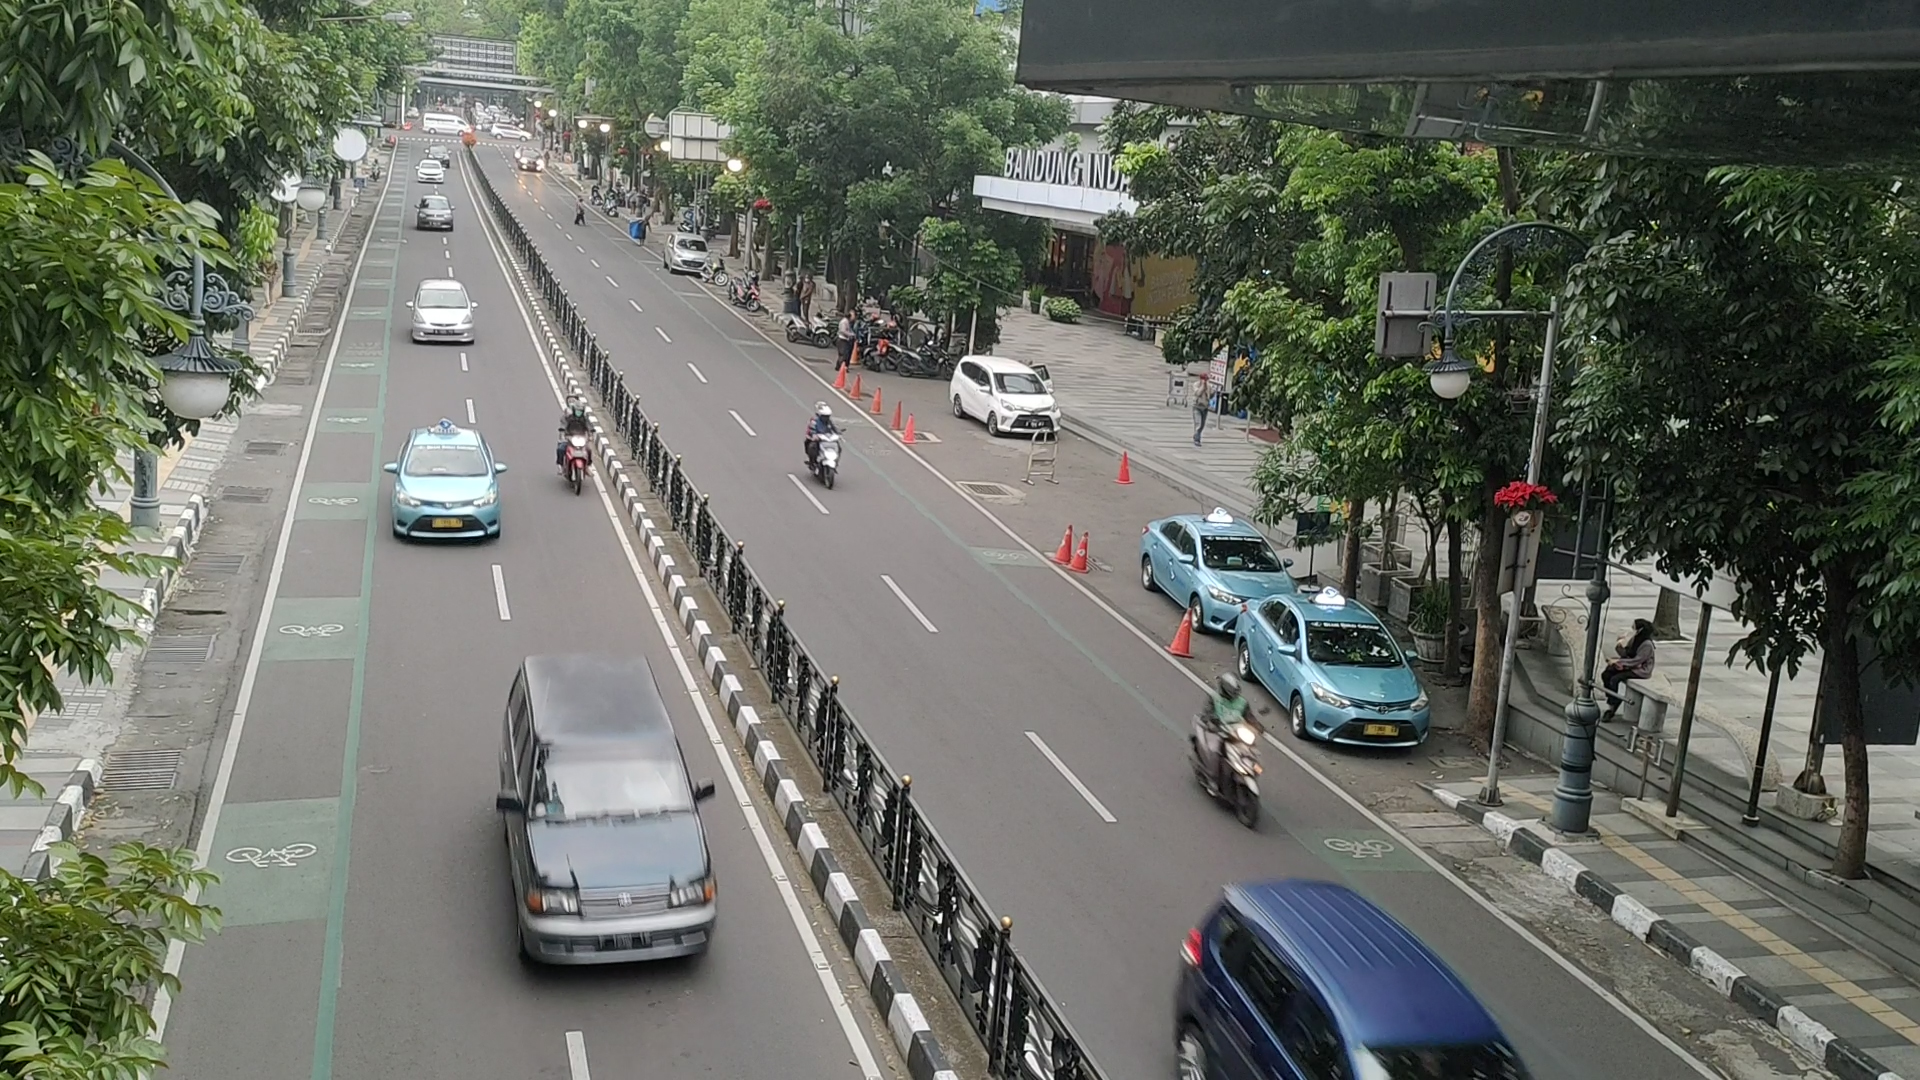mobil: (506, 744, 717, 976), (1295, 617, 1433, 756), (388, 442, 502, 545), (988, 367, 1065, 440), (407, 287, 475, 349)
motor: (1192, 669, 1265, 827), (547, 381, 604, 508), (802, 394, 851, 500)
